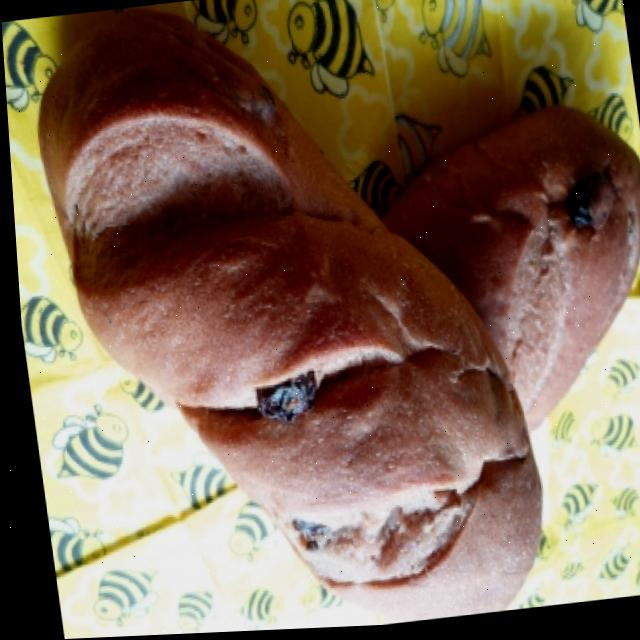面包点心: (43, 0, 640, 638)
